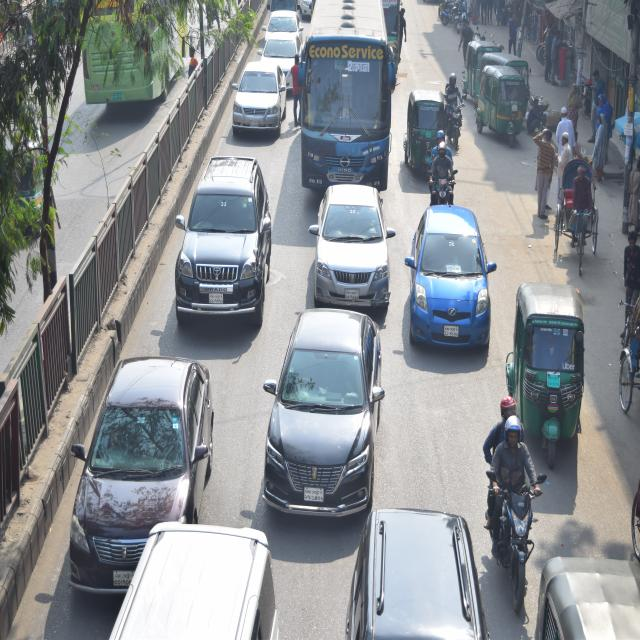bus: (302, 5, 395, 186), (70, 0, 192, 112)
car: (63, 352, 221, 598), (264, 320, 381, 514), (164, 151, 276, 331), (346, 505, 487, 640), (412, 200, 490, 344), (313, 180, 392, 307), (229, 53, 285, 130), (264, 28, 296, 78), (266, 5, 301, 35)
motorbike: (482, 450, 538, 610), (424, 152, 457, 208), (443, 90, 467, 152)
